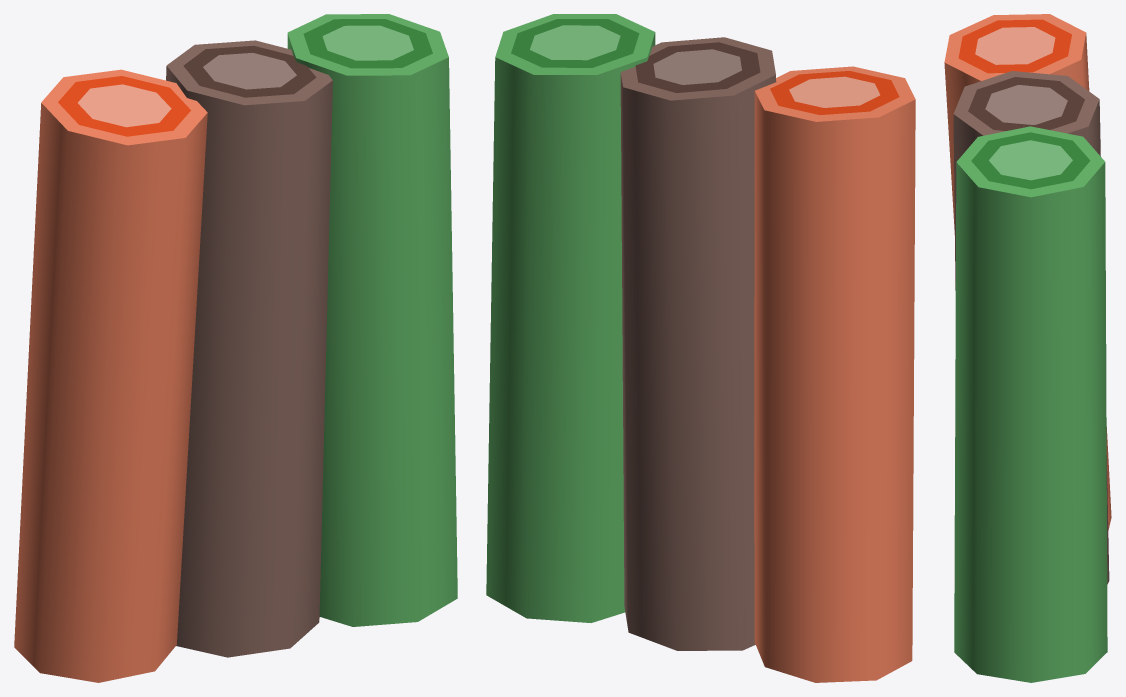
The model's file is fabric-roll.glb.
The picture shows the model from 3 angles, left to right: view 1: azimuth 30°, elevation 25°; view 2: azimuth 150°, elevation 25°; view 3: azimuth 270°, elevation 25°; orthographic projection. The views are drawn at different scales.
Visible parts, largest first — view 1: shop_032; view 2: shop_032; view 3: shop_032.
Boxes of the visible parts, x1,y1,x2,y2 form: shop_032: (14, 14, 457, 682); shop_032: (486, 14, 915, 682); shop_032: (944, 14, 1111, 682).
Size of the model in its own units: 0.3029 by 0.3936 by 0.1187.
Materials: 1 (1 with a texture image).
